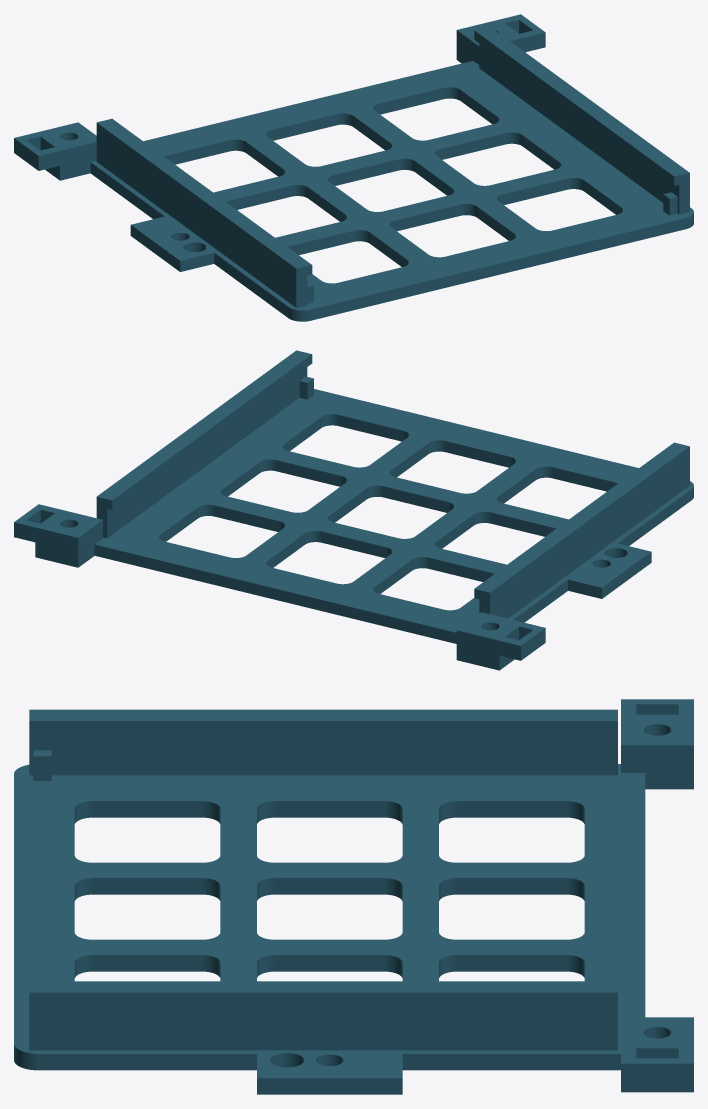
File: jetson_tray.glb
3 renders of one model, top to bottom at view 1: azimuth 30°, elevation 25°; view 2: azimuth 150°, elevation 25°; view 3: azimuth 270°, elevation 25°, orthographic. The views are drawn at different scales.
Parts seen in each view (by area): view 1: jetson_tray; view 2: jetson_tray; view 3: jetson_tray.
Part boxes in pixels (box(x1,y1,x2,y2)): jetson_tray: box(14, 14, 693, 321); jetson_tray: box(14, 350, 693, 670); jetson_tray: box(14, 699, 693, 1094).
Size of the model in its own units: 0.142 by 0.0135 by 0.112.
